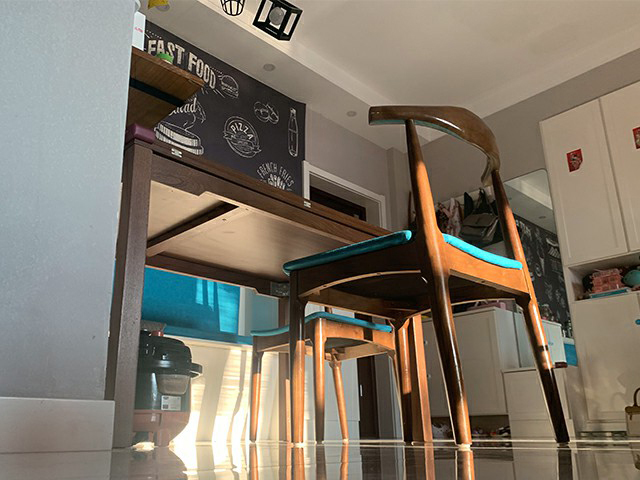cabinet: (540, 79, 640, 438), (502, 363, 586, 440)
stool: (281, 104, 571, 451), (248, 305, 414, 447)
table: (104, 123, 433, 445)
